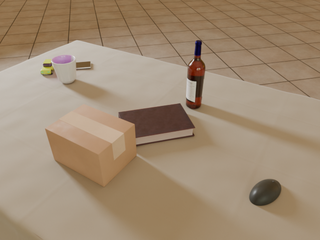book: (118, 103, 195, 146)
bottle: (186, 40, 205, 109)
box: (45, 104, 136, 187)
cup: (51, 55, 76, 83)
mouse: (249, 179, 281, 206)
phone: (76, 61, 91, 69)
toy_car: (41, 59, 54, 74)
